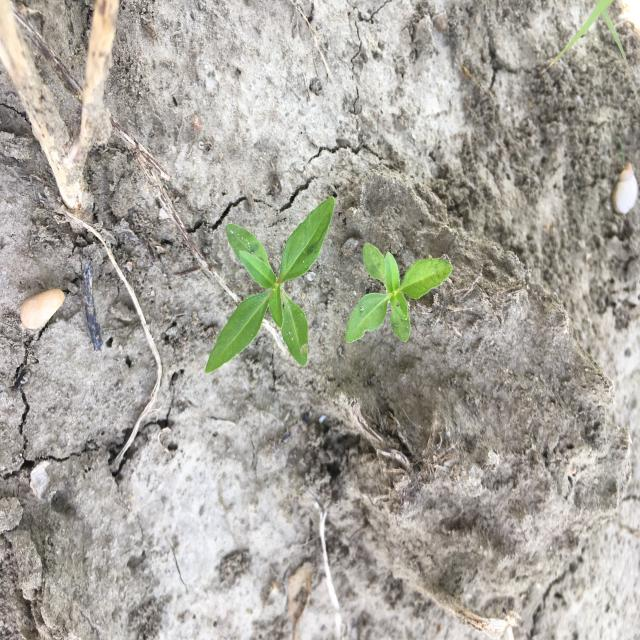Eclipta: (204, 193, 336, 374), (343, 240, 454, 346)
